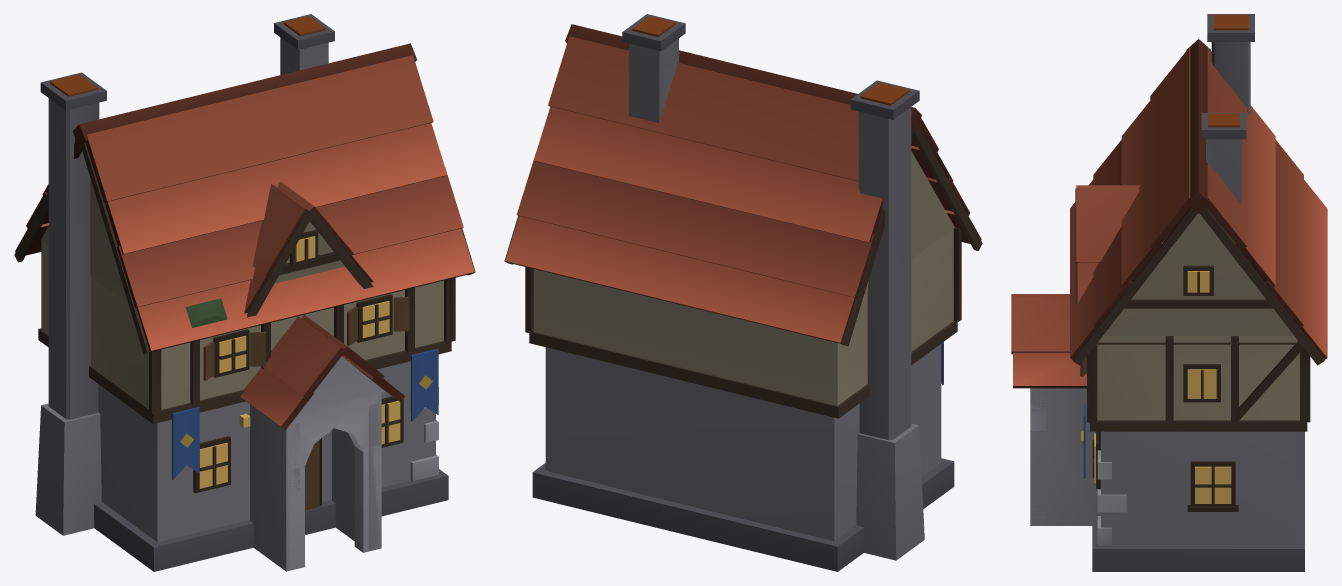
The model's file is manor.glb.
3 renders of one model, left to right at view 1: azimuth 30°, elevation 25°; view 2: azimuth 150°, elevation 25°; view 3: azimuth 270°, elevation 25°, orthographic. The views are drawn at different scales.
Visible parts, largest first — view 1: manor; view 2: manor; view 3: manor.
Boxes of the visible parts, box(x1,y1,x2,y2) form: manor: box(14, 14, 475, 571); manor: box(504, 14, 982, 571); manor: box(1011, 14, 1327, 571).
Bounding box in the file's own units: 5.19 × 6.37 × 4.36.
